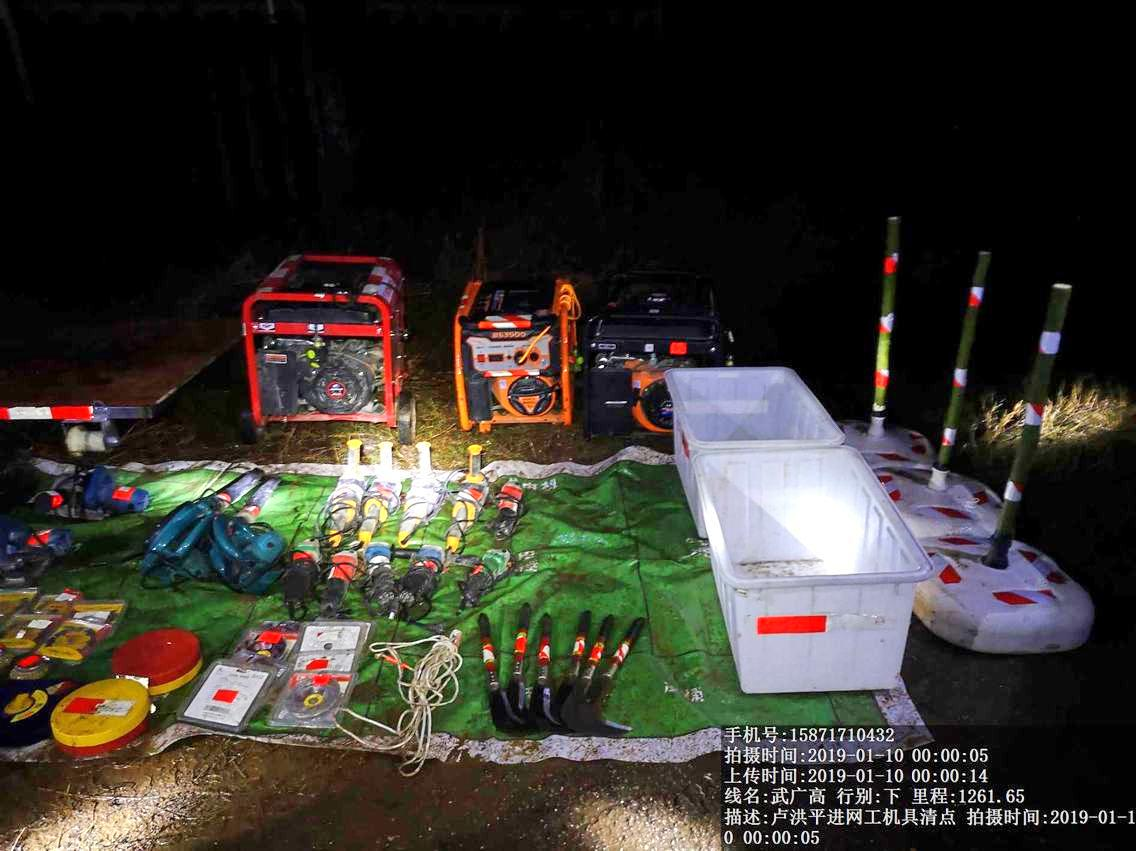DJ: (242, 228, 441, 450), (444, 257, 593, 435), (590, 268, 745, 427)
DMJ: (358, 534, 398, 617), (407, 543, 441, 623), (318, 540, 356, 608)
DZ: (446, 439, 491, 546), (362, 433, 401, 538), (402, 437, 441, 541), (326, 435, 359, 535)
GFJ: (214, 455, 284, 592)
JC: (49, 675, 156, 757), (103, 620, 198, 685)
ST: (920, 235, 1118, 656)
T: (693, 446, 927, 700), (656, 363, 855, 450)
